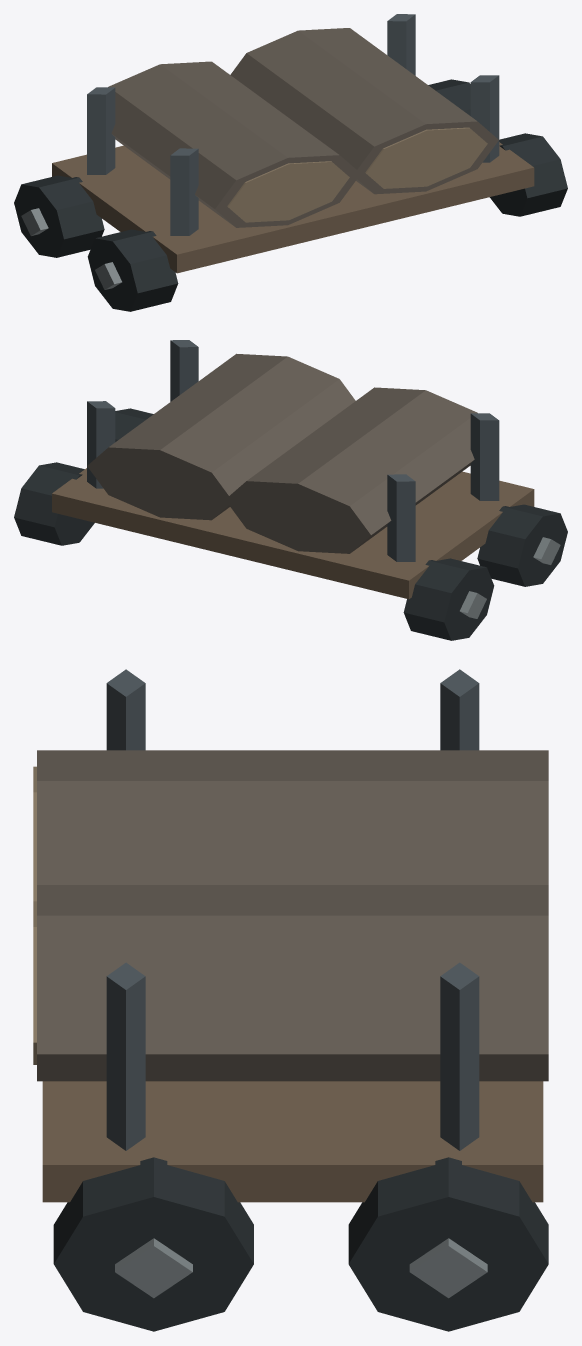
File: log_cart.glb
The picture shows the model from 3 angles, top to bottom: view 1: azimuth 30°, elevation 25°; view 2: azimuth 150°, elevation 25°; view 3: azimuth 270°, elevation 25°; orthographic projection. The views are drawn at different scales.
Visible parts, largest first — view 1: log_cart; view 2: log_cart; view 3: log_cart.
Part boxes in pixels (x1,y1,x2,y2): log_cart: [14, 14, 567, 311]; log_cart: [14, 340, 567, 640]; log_cart: [33, 669, 548, 1331].
Size of the model in its own units: 3.84 by 1.2 by 1.92.
